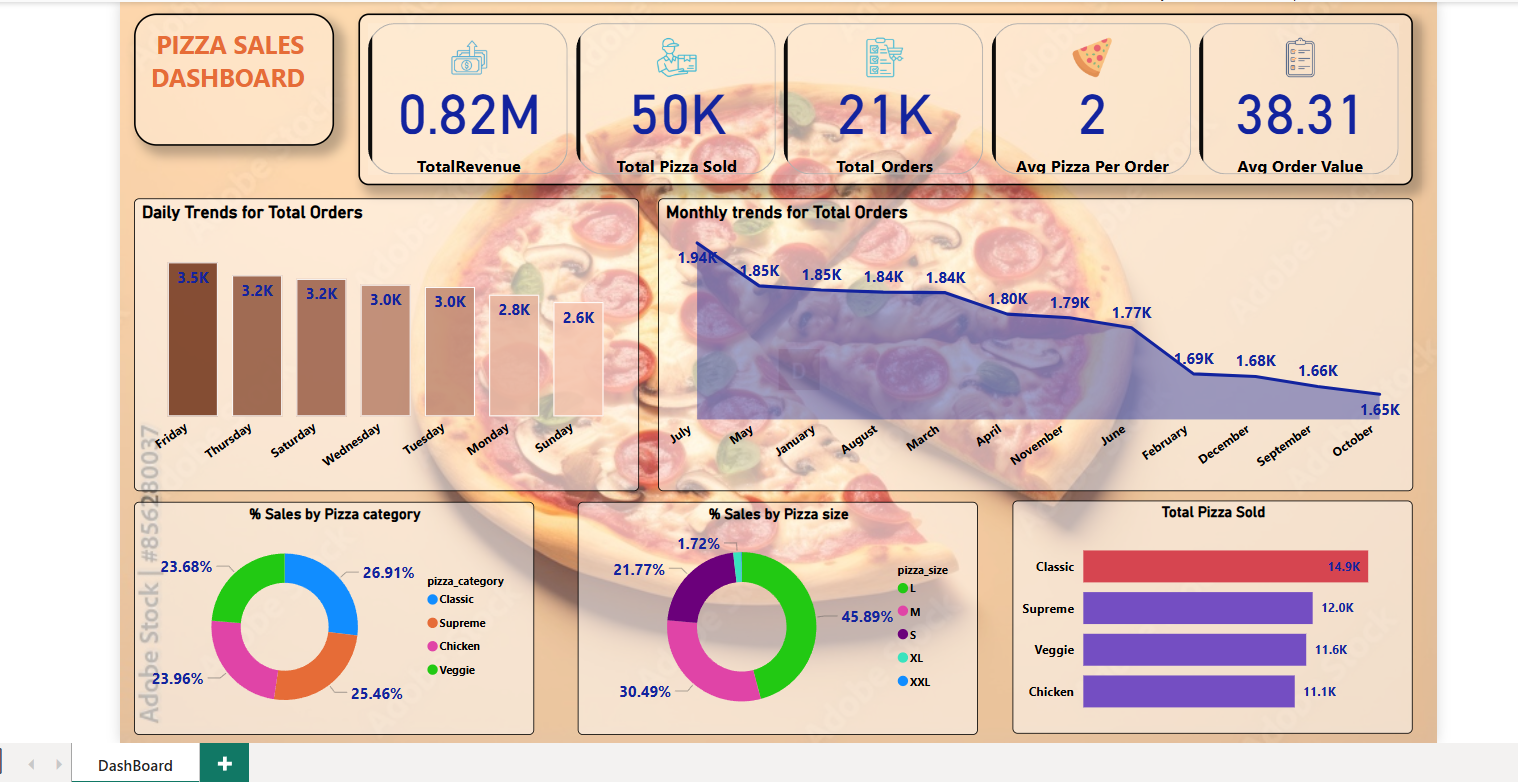

The dashboard page shown, as its layout file describes it:
{"tool":"powerbi","page":{"name":"DashBoard","canvas":[1280,720],"ordinal":0},"visuals":[{"type":"cardVisual","fields":{"Data":["pizza_sales.TotalRevenue","pizza_sales.Total_pizzaOrder","pizza_sales.Total_Orders","pizza_sales.Average_pizzaorder","pizza_sales.Average_ordervalue"]},"box":[231.8,11.2,1025,167.3],"z":0},{"type":"columnChart","title":"Daily Trends for Total Orders","fields":{"Category":["pizza_sales.Dayname"],"Y":["Count(pizza_sales.order_id)"]},"box":[13.6,190.9,490.8,285.1],"z":1000},{"type":"areaChart","title":"Monthly trends for Total Orders","fields":{"Category":["pizza_sales.Monthname"],"Y":["Count(pizza_sales.order_id)"]},"box":[523.1,190.9,733.8,285.1],"z":2000},{"type":"donutChart","title":"% Sales by Pizza category","fields":{"Category":["pizza_sales.pizza_category"],"Y":["pizza_sales.TotalRevenue"]},"box":[13.6,485.9,389.2,226.8],"z":3000},{"type":"barChart","title":"Total Pizza Sold","fields":{"Category":["pizza_sales.pizza_category"],"Y":["Sum(pizza_sales.quantity)"]},"box":[867.6,484.6,389.2,226.8],"z":4000},{"type":"donutChart","title":"% Sales by Pizza size","fields":{"Category":["pizza_sales.pizza_size"],"Y":["pizza_sales.TotalRevenue"]},"box":[445,485.9,389.2,226.8],"z":5000},{"type":"textbox","box":[13.6,11.2,194.6,128.9],"z":6000}]}

Visuals, with their boxes in screenshot pixels (x1, y1, x2, y2):
cardVisual - pizza_sales.TotalRevenue x pizza_sales.Total_pizzaOrder: 350,8,1410,181
"Daily Trends for Total Orders" columnChart: 125,193,632,488
"Monthly trends for Total Orders" areaChart: 652,193,1410,488
"% Sales by Pizza category" donutChart: 125,499,527,733
"Total Pizza Sold" barChart: 1008,497,1410,732
"% Sales by Pizza size" donutChart: 571,499,973,733
textbox: 125,8,326,141
